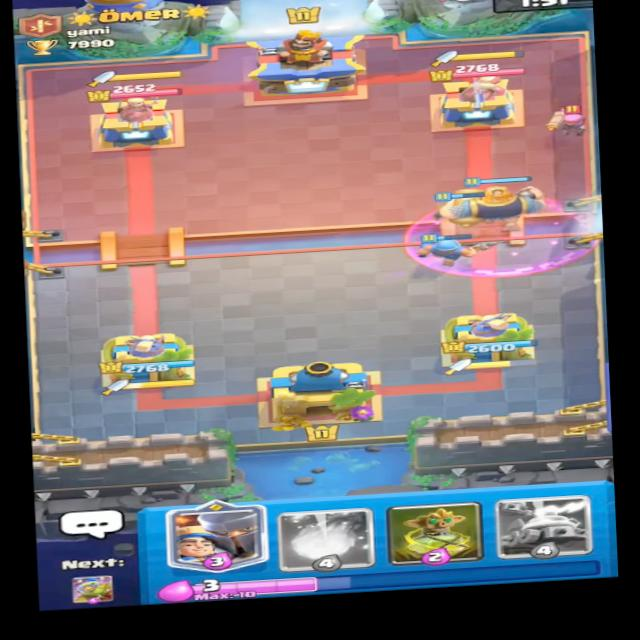firecracker: (541, 100, 600, 146)
rage: (399, 192, 591, 283)
